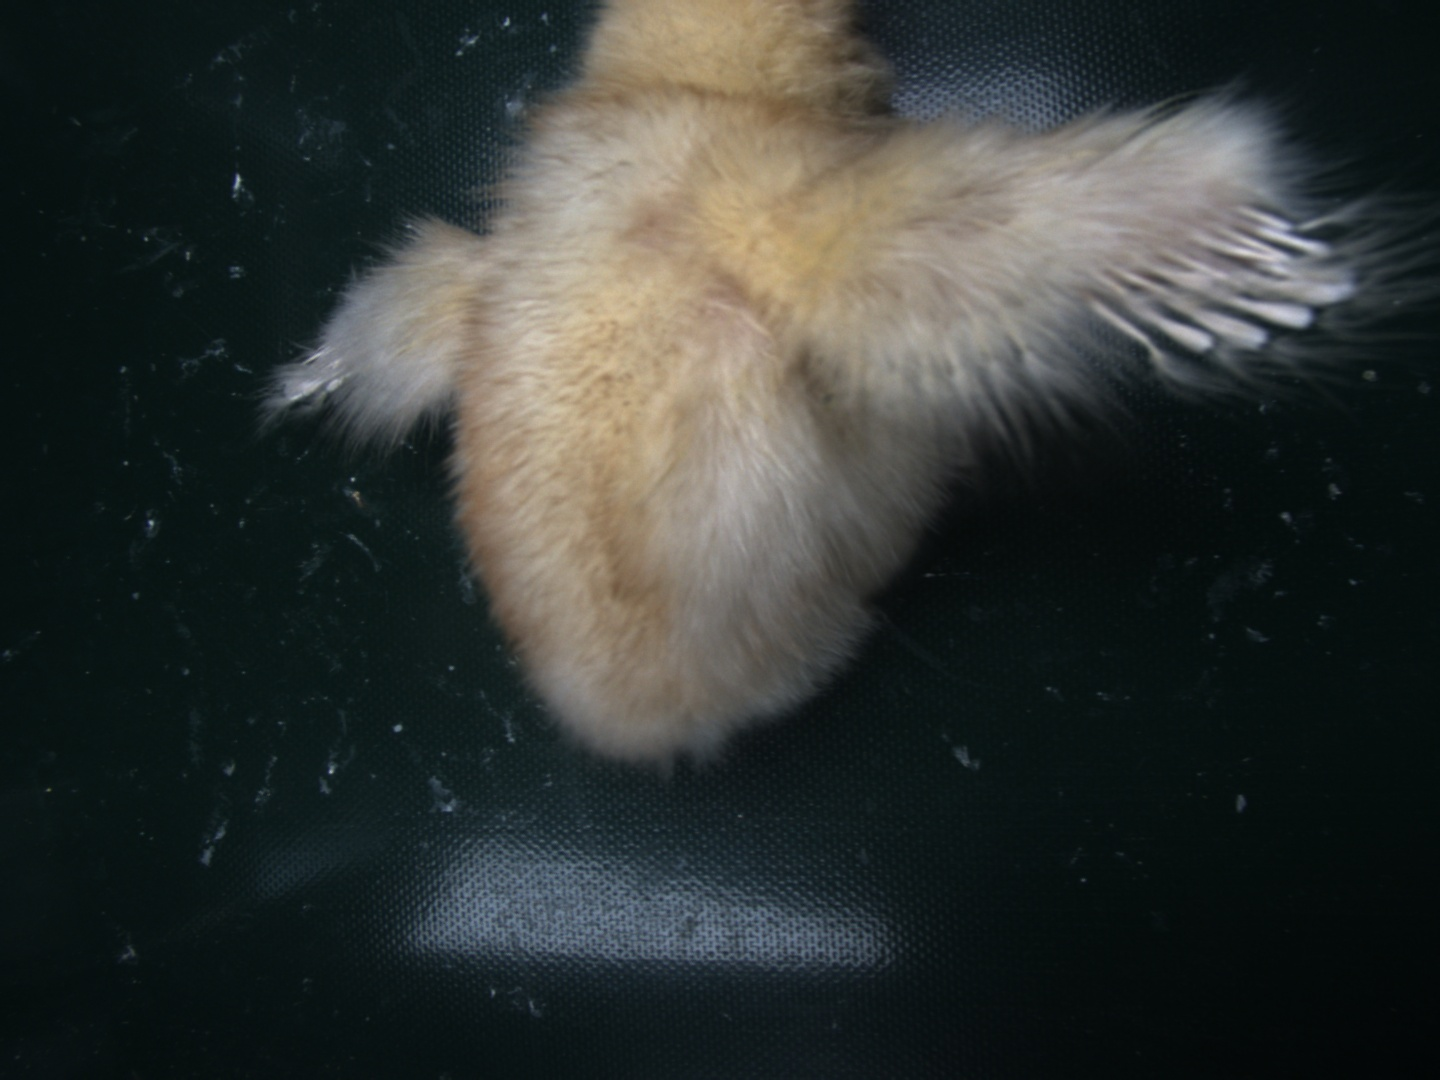female: (1091, 203, 1361, 358)
